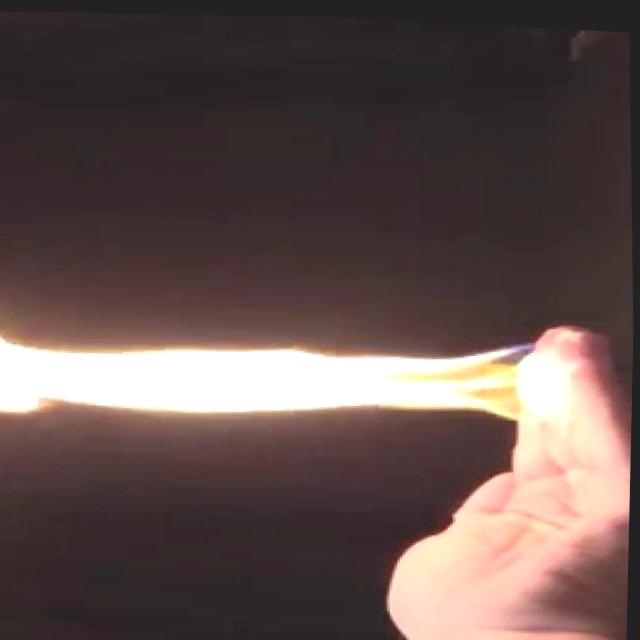helmet: (0, 291, 585, 461)
